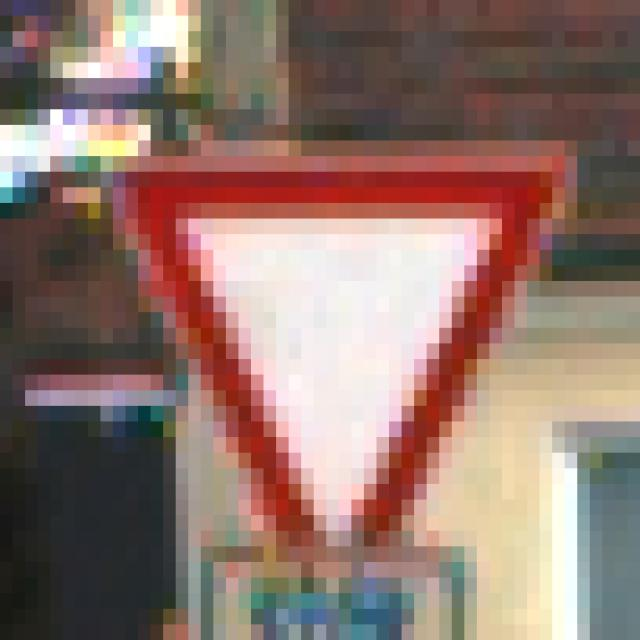Give Way: (76, 95, 566, 563)
